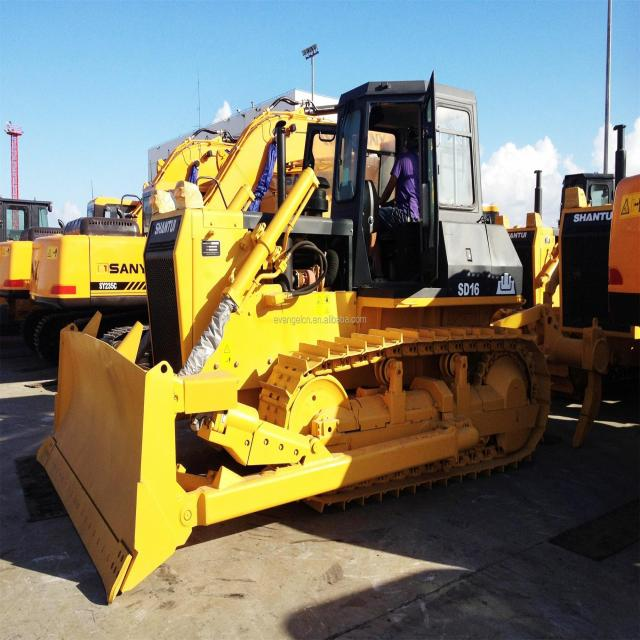Bulldozer: (44, 51, 587, 598)
